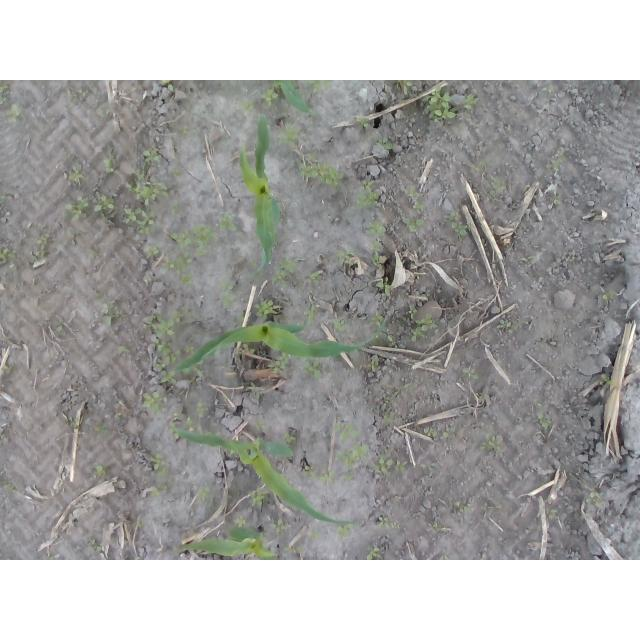Maize: (174, 425, 352, 527), (170, 318, 387, 374), (240, 113, 282, 281), (176, 526, 277, 560), (272, 80, 316, 116)
Weeds: (126, 162, 169, 206), (170, 223, 218, 258), (298, 152, 344, 188), (142, 307, 190, 337), (421, 86, 459, 122), (161, 251, 194, 285), (92, 290, 121, 326), (124, 206, 156, 234), (147, 338, 181, 362), (336, 444, 369, 468), (411, 314, 438, 343), (271, 258, 297, 287), (92, 190, 116, 218), (356, 179, 379, 208), (61, 196, 87, 220), (155, 358, 177, 384), (279, 124, 302, 148), (217, 278, 235, 308), (31, 234, 50, 262), (184, 359, 205, 384), (479, 433, 504, 453), (268, 351, 290, 373), (261, 83, 282, 105), (142, 391, 163, 413), (546, 149, 566, 172), (334, 422, 359, 440), (372, 455, 393, 476), (496, 312, 518, 332), (255, 299, 277, 319), (150, 453, 169, 475), (451, 220, 471, 240), (0, 247, 18, 269), (217, 213, 237, 232), (302, 359, 323, 377), (250, 487, 271, 505), (490, 178, 507, 199), (375, 276, 392, 296), (370, 240, 382, 268), (308, 80, 332, 94), (68, 166, 87, 183), (318, 467, 335, 486), (586, 492, 605, 509), (271, 518, 290, 535), (366, 220, 386, 236), (402, 217, 424, 231), (303, 305, 317, 327), (338, 523, 355, 541), (142, 146, 161, 162), (338, 249, 355, 266), (236, 342, 257, 355), (379, 515, 398, 529), (88, 463, 107, 477), (464, 94, 479, 111), (144, 245, 161, 260), (6, 104, 20, 122), (394, 80, 412, 94), (195, 401, 209, 419), (151, 484, 168, 498), (394, 383, 411, 397), (404, 186, 422, 199), (168, 421, 181, 439), (332, 318, 347, 333), (104, 158, 117, 175), (338, 470, 355, 483), (367, 546, 382, 560), (602, 290, 618, 303), (376, 137, 393, 149), (250, 382, 262, 399), (538, 412, 550, 429), (462, 367, 479, 379), (89, 539, 103, 553), (66, 88, 82, 100), (372, 310, 384, 326), (426, 522, 443, 533), (201, 430, 224, 438), (413, 201, 427, 214), (305, 272, 319, 285), (418, 462, 438, 471), (444, 209, 460, 220), (0, 480, 16, 491), (67, 230, 77, 247), (303, 465, 316, 478), (198, 487, 211, 500), (161, 80, 175, 92), (599, 372, 613, 384), (457, 501, 472, 512), (473, 161, 486, 173), (367, 360, 379, 373), (408, 305, 418, 320), (423, 427, 438, 437), (283, 547, 304, 554), (234, 516, 246, 528), (66, 416, 78, 428), (242, 101, 255, 112), (357, 117, 370, 128), (169, 201, 180, 214), (382, 413, 395, 424), (186, 417, 195, 432), (54, 320, 65, 332), (89, 246, 99, 259), (554, 190, 563, 204), (172, 167, 184, 177), (443, 427, 455, 437), (284, 434, 297, 443), (397, 461, 408, 471), (0, 80, 8, 93), (308, 532, 321, 540), (117, 345, 127, 355), (179, 126, 190, 135), (237, 316, 244, 329), (521, 255, 536, 261), (136, 517, 145, 527), (549, 509, 558, 519), (255, 420, 266, 428), (94, 425, 106, 432), (374, 331, 383, 340), (251, 257, 259, 267), (3, 364, 13, 372), (534, 398, 542, 407), (386, 334, 394, 343), (475, 393, 485, 400), (99, 107, 105, 118), (186, 346, 194, 354), (0, 95, 6, 105), (115, 412, 122, 420), (439, 556, 449, 561), (569, 255, 576, 262), (384, 397, 391, 404), (229, 450, 238, 455), (0, 435, 6, 442), (0, 194, 4, 203), (401, 421, 407, 426), (369, 406, 375, 410), (135, 557, 141, 560)
